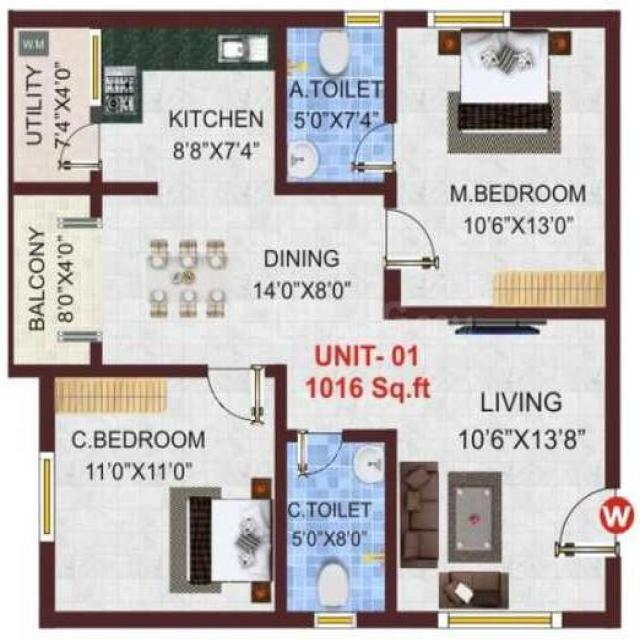Balcony-Sitout: (9, 187, 107, 377)
Bedroom: (37, 363, 288, 619)
Bedroom with Toilet: (282, 8, 620, 300)
Dining: (139, 235, 240, 323)
Enterance-Foyer: (526, 484, 635, 558)
Kitchen: (103, 8, 282, 195)
Living: (386, 300, 620, 620)
Toilet: (276, 8, 398, 198), (277, 427, 398, 618)
Utility: (9, 11, 104, 197)
